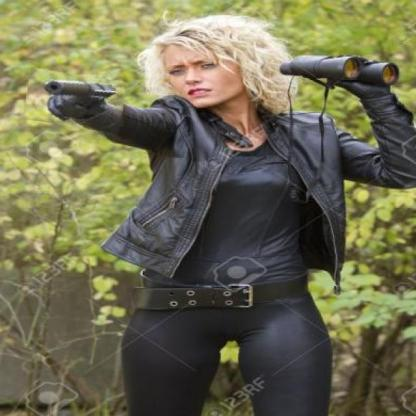handgun: (24, 72, 126, 130)
